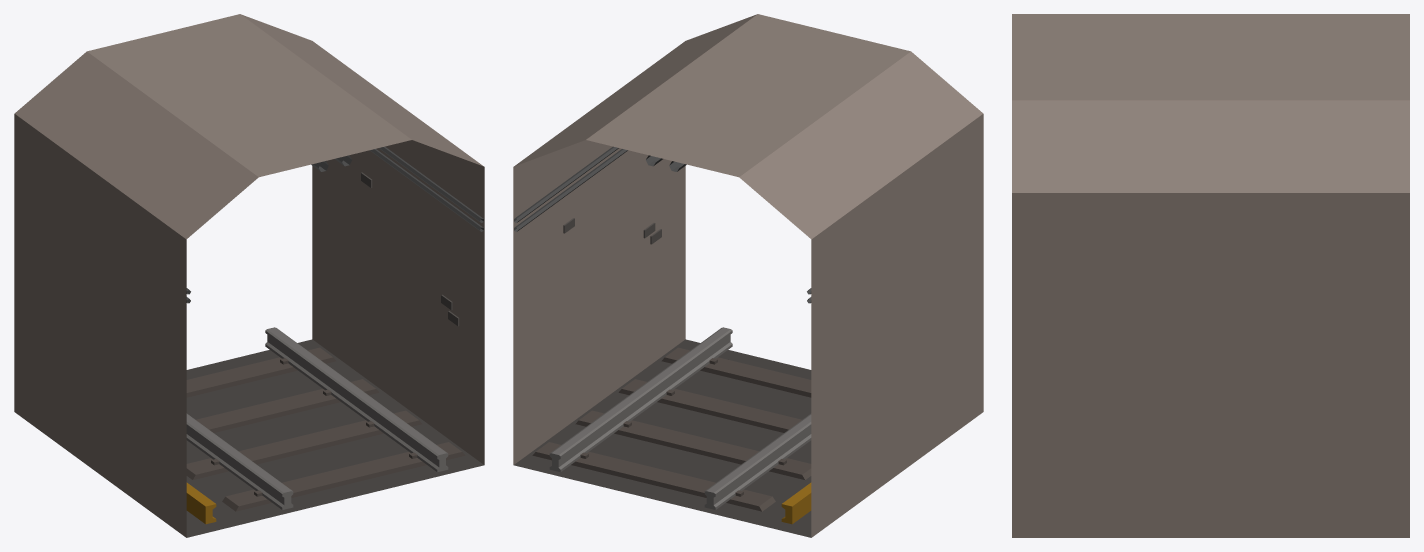
The model's file is SM_Train_Track_Underground_Single_Tunnel_Mid_01.fbx.
3 views of the same model, side by side, from view 1: azimuth 30°, elevation 25°; view 2: azimuth 150°, elevation 25°; view 3: azimuth 270°, elevation 25° (orthographic). The views are drawn at different scales.
Visible parts, largest first — view 1: SM_Train_Track_Underground_Single_Tunnel_Mid_01; view 2: SM_Train_Track_Underground_Single_Tunnel_Mid_01; view 3: SM_Train_Track_Underground_Single_Tunnel_Mid_01.
Part boxes in pixels (bbox=[...]): SM_Train_Track_Underground_Single_Tunnel_Mid_01: bbox=[14, 14, 484, 537]; SM_Train_Track_Underground_Single_Tunnel_Mid_01: bbox=[513, 14, 983, 537]; SM_Train_Track_Underground_Single_Tunnel_Mid_01: bbox=[1012, 14, 1409, 537].
Size of the model in its own units: 350 by 385 by 350.
